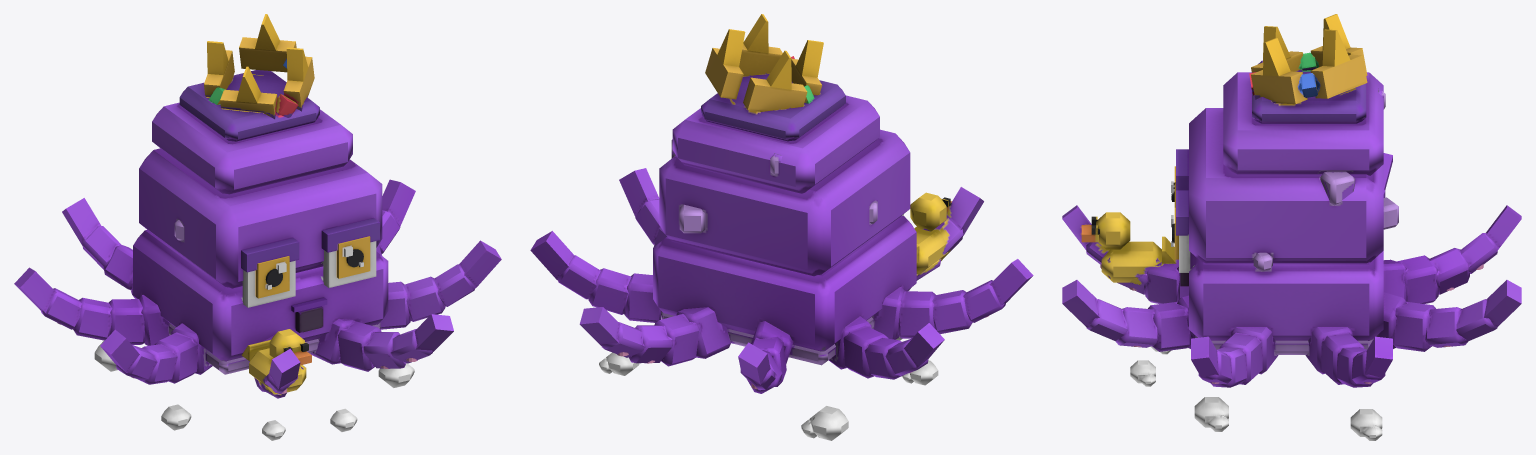
The model's file is KrakenBaignoire_Rig.fbx.
The picture shows the model from 3 angles, left to right: view 1: azimuth 30°, elevation 25°; view 2: azimuth 150°, elevation 25°; view 3: azimuth 270°, elevation 25°; orthographic projection. The views are drawn at different scales.
Visible parts, largest first — view 1: Body, Tentacle5, Tentacle0, Tentacle1, Tentacle6, Tentacle7, Tentacle4, Tentacle2; view 2: Body, Tentacle3, Tentacle6, Tentacle2, Tentacle5, Tentacle7, Tentacle4, Tentacle1; view 3: Body, Tentacle7, Tentacle3, Tentacle0, Tentacle4, Tentacle1, Tentacle2.
Part boxes in pixels (box(x1,y1,x2,y2)): Body: box(94, 14, 414, 440); Tentacle5: box(14, 267, 170, 345); Tentacle0: box(310, 314, 453, 371); Tentacle1: box(380, 240, 501, 329); Tentacle6: box(100, 323, 212, 384); Tentacle7: box(241, 329, 311, 398); Tentacle4: box(62, 198, 136, 298); Tentacle2: box(376, 179, 415, 255); Body: box(599, 14, 938, 440); Tentacle3: box(579, 307, 731, 366); Tentacle6: box(872, 259, 1033, 339); Tentacle2: box(530, 231, 661, 322); Tentacle5: box(828, 316, 944, 379); Tentacle7: box(907, 187, 983, 291); Tentacle4: box(738, 321, 793, 393); Tentacle1: box(619, 168, 666, 246); Body: box(1130, 14, 1398, 440); Tentacle7: box(1062, 205, 1188, 303); Tentacle3: box(1376, 280, 1521, 351); Tentacle0: box(1062, 280, 1197, 351); Tentacle4: box(1383, 205, 1521, 303); Tentacle1: box(1191, 327, 1278, 387); Tentacle2: box(1305, 327, 1392, 387).
Bounding box in the file's own units: 7.23 × 6 × 6.97.
Materials: 1 (1 with a texture image).
